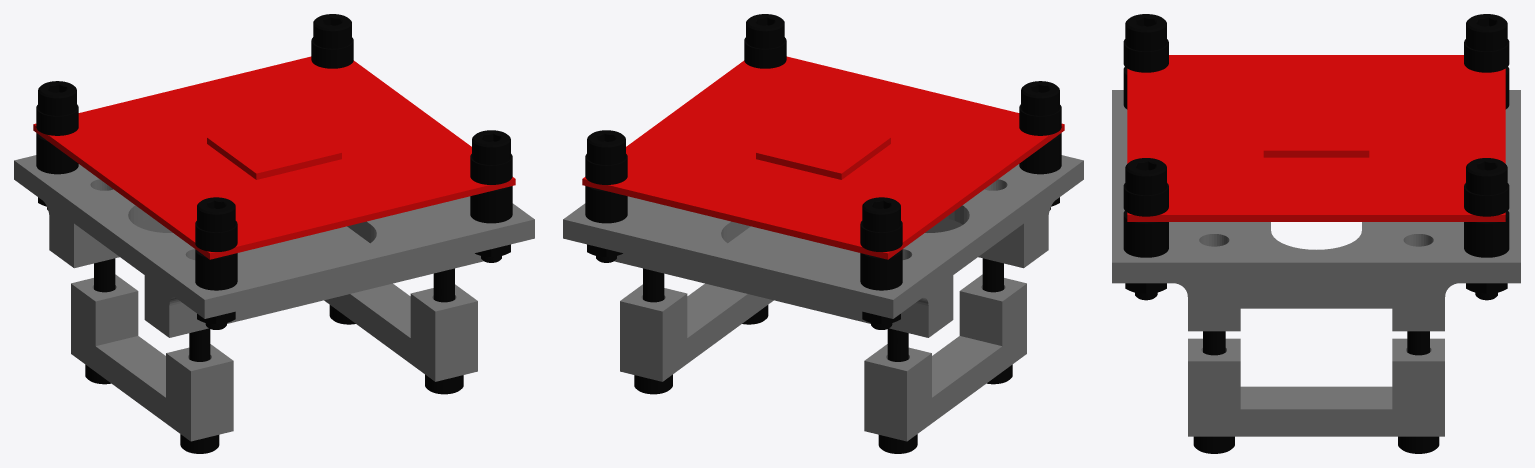
Rendered from spinal.dae.
The picture shows the model from 3 angles, left to right: view 1: azimuth 30°, elevation 25°; view 2: azimuth 150°, elevation 25°; view 3: azimuth 270°, elevation 25°; orthographic projection. The views are drawn at different scales.
Visible parts, largest first — view 1: spinal_with_mount_v2 - spinal-1, spinal_with_mount_v2 - spinal_mount_v2-1, spinal_with_mount_v2 - general_clamp-2, spinal_with_mount_v2 - general_clamp-1, spinal_with_mount_v2 - SP-J3-5-6, spinal_with_mount_v2 - CB3-16-3, spinal_with_mount_v2 - CB3-16-2, spinal_with_mount_v2 - SP-J3-5-5, spinal_with_mount_v2 - CB3-20-6, spinal_with_mount_v2 - CB3-20-5, spinal_with_mount_v2 - CB3-16-4, spinal_with_mount_v2 - CB3-16-5 (+6 smaller); view 2: spinal_with_mount_v2 - spinal-1, spinal_with_mount_v2 - spinal_mount_v2-1, spinal_with_mount_v2 - general_clamp-2, spinal_with_mount_v2 - general_clamp-1, spinal_with_mount_v2 - SP-J3-5-4, spinal_with_mount_v2 - CB3-16-4, spinal_with_mount_v2 - CB3-16-5, spinal_with_mount_v2 - SP-J3-5-1, spinal_with_mount_v2 - CB3-20-2, spinal_with_mount_v2 - CB3-20-1, spinal_with_mount_v2 - CB3-16-3, spinal_with_mount_v2 - CB3-16-2 (+6 smaller); view 3: spinal_with_mount_v2 - spinal-1, spinal_with_mount_v2 - spinal_mount_v2-1, spinal_with_mount_v2 - general_clamp-1, spinal_with_mount_v2 - general_clamp-2, spinal_with_mount_v2 - SP-J3-5-5, spinal_with_mount_v2 - SP-J3-5-1, spinal_with_mount_v2 - CB3-16-5, spinal_with_mount_v2 - CB3-16-2, spinal_with_mount_v2 - CB3-16-4, spinal_with_mount_v2 - CB3-16-3, spinal_with_mount_v2 - CB3-20-5, spinal_with_mount_v2 - CB3-20-1 (+4 smaller).
Boxes of the visible parts, x1,y1,x2,y2 form: spinal_with_mount_v2 - spinal-1: [33, 56, 515, 259]; spinal_with_mount_v2 - spinal_mount_v2-1: [14, 155, 534, 337]; spinal_with_mount_v2 - general_clamp-2: [71, 274, 233, 441]; spinal_with_mount_v2 - general_clamp-1: [324, 283, 477, 381]; spinal_with_mount_v2 - SP-J3-5-6: [195, 249, 237, 290]; spinal_with_mount_v2 - CB3-16-3: [197, 197, 235, 329]; spinal_with_mount_v2 - CB3-16-2: [472, 130, 510, 262]; spinal_with_mount_v2 - SP-J3-5-5: [470, 186, 512, 223]; spinal_with_mount_v2 - CB3-20-6: [180, 328, 219, 453]; spinal_with_mount_v2 - CB3-20-5: [425, 268, 463, 394]; spinal_with_mount_v2 - CB3-16-4: [38, 81, 76, 210]; spinal_with_mount_v2 - CB3-16-5: [313, 14, 351, 48]; spinal_with_mount_v2 - spinal-1: [582, 56, 1064, 259]; spinal_with_mount_v2 - spinal_mount_v2-1: [563, 155, 1083, 337]; spinal_with_mount_v2 - general_clamp-2: [864, 274, 1026, 441]; spinal_with_mount_v2 - general_clamp-1: [620, 283, 773, 381]; spinal_with_mount_v2 - SP-J3-5-4: [860, 249, 902, 290]; spinal_with_mount_v2 - CB3-16-4: [862, 197, 900, 329]; spinal_with_mount_v2 - CB3-16-5: [587, 130, 625, 262]; spinal_with_mount_v2 - SP-J3-5-1: [585, 186, 627, 223]; spinal_with_mount_v2 - CB3-20-2: [878, 328, 917, 453]; spinal_with_mount_v2 - CB3-20-1: [634, 268, 672, 394]; spinal_with_mount_v2 - CB3-16-3: [1021, 81, 1059, 210]; spinal_with_mount_v2 - CB3-16-2: [746, 14, 784, 48]; spinal_with_mount_v2 - spinal-1: [1127, 55, 1505, 221]; spinal_with_mount_v2 - spinal_mount_v2-1: [1112, 90, 1520, 331]; spinal_with_mount_v2 - general_clamp-1: [1188, 338, 1444, 436]; spinal_with_mount_v2 - general_clamp-2: [1240, 283, 1392, 308]; spinal_with_mount_v2 - SP-J3-5-5: [1123, 211, 1168, 257]; spinal_with_mount_v2 - SP-J3-5-1: [1464, 211, 1509, 257]; spinal_with_mount_v2 - CB3-16-5: [1466, 158, 1507, 300]; spinal_with_mount_v2 - CB3-16-2: [1125, 158, 1166, 300]; spinal_with_mount_v2 - CB3-16-4: [1466, 14, 1507, 51]; spinal_with_mount_v2 - CB3-16-3: [1125, 14, 1166, 51]; spinal_with_mount_v2 - CB3-20-5: [1193, 331, 1234, 453]; spinal_with_mount_v2 - CB3-20-1: [1398, 331, 1439, 453].
Bounding box in the file's own units: 0.054 × 0.054 × 0.042.
